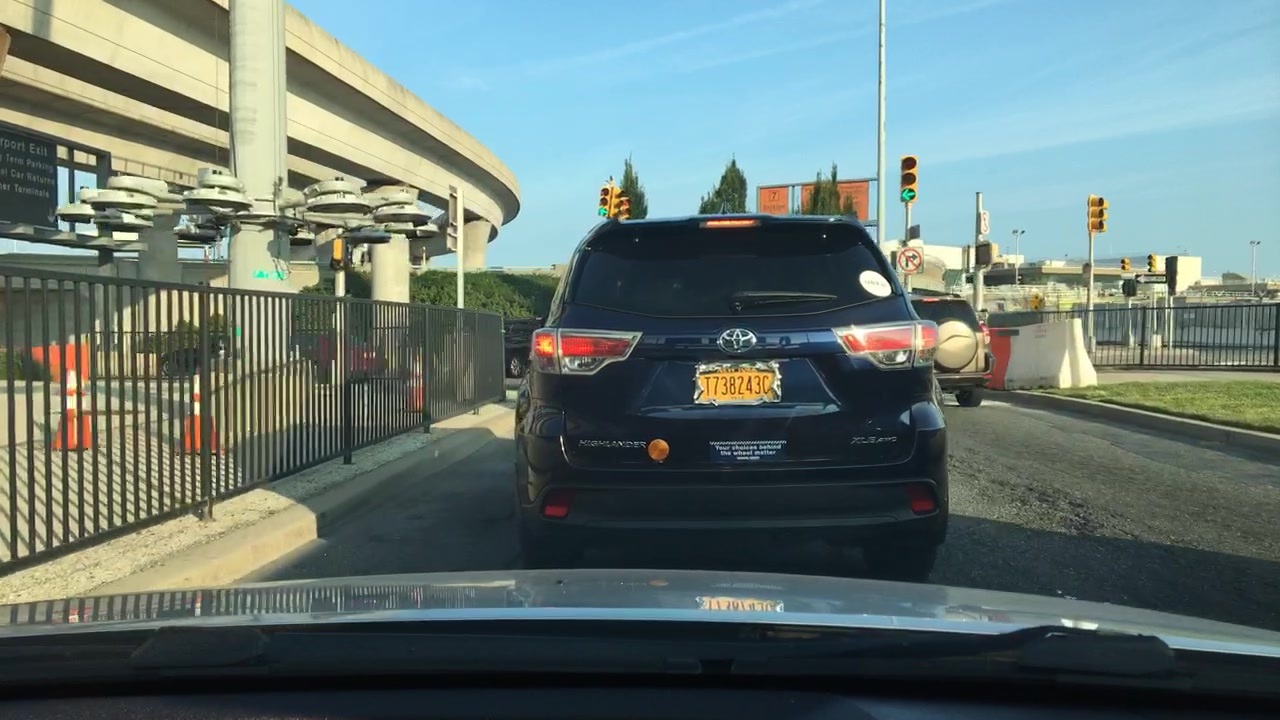licence: (693, 365, 784, 405)
